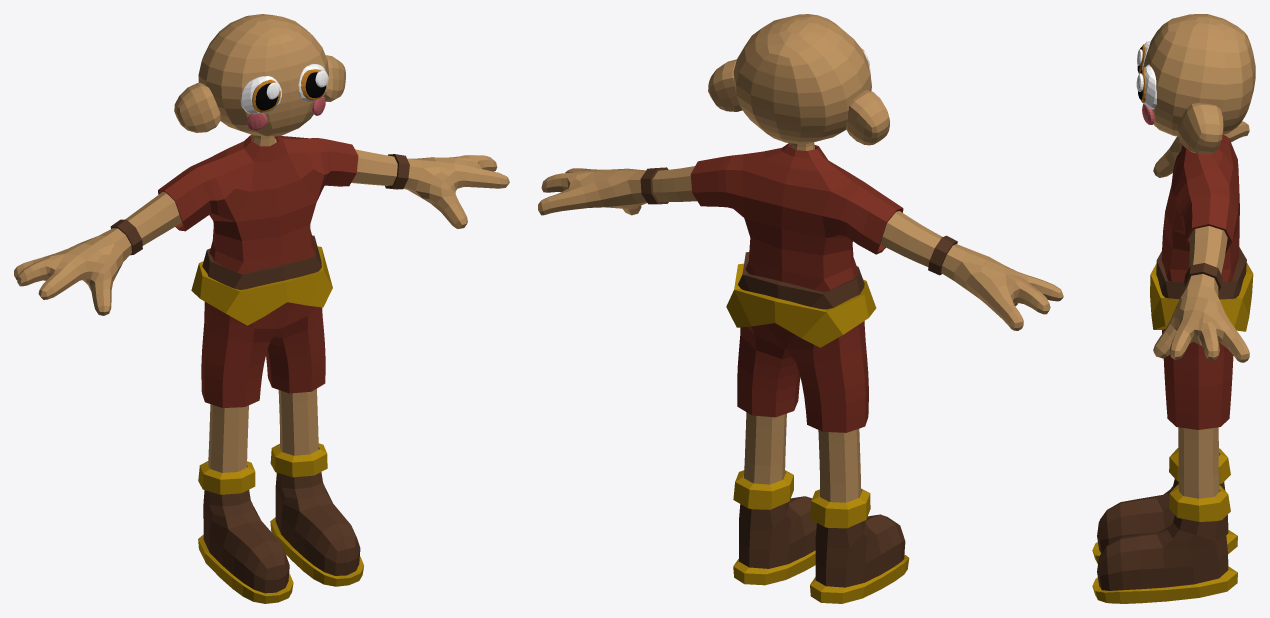
The model's file is Player With Clothes.fbx.
The picture shows the model from 3 angles, left to right: view 1: azimuth 30°, elevation 25°; view 2: azimuth 150°, elevation 25°; view 3: azimuth 270°, elevation 25°; orthographic projection. The views are drawn at different scales.
Visible parts, largest first — view 1: Cube, Cube.013, Cube.001, Cube.012, Cube.002, Cube.011, Cube.003, Cube.009, Cube.014, Cube.005, Cube.004; view 2: Cube.001, Cube, Cube.013, Cube.002, Cube.012, Cube.011, Cube.003, Cube.009, Cube.014; view 3: Cube.013, Cube.002, Cube, Cube.001, Cube.012, Cube.011, Cube.003, Cube.009, Cube.005, Cube.014.
Boxes of the visible parts, box(x1,y1,x2,y2) form: Cube: box(14, 135, 509, 472); Cube.013: box(198, 443, 363, 603); Cube.001: box(158, 134, 358, 273); Cube.012: box(201, 302, 325, 407); Cube.002: box(198, 14, 328, 136); Cube.011: box(191, 246, 332, 325); Cube.003: box(174, 55, 345, 132); Cube.009: box(202, 235, 321, 289); Cube.014: box(110, 154, 409, 255); Cube.005: box(240, 64, 327, 114); Cube.004: box(255, 72, 325, 110); Cube.001: box(690, 143, 903, 291); Cube: box(538, 142, 1063, 502); Cube.013: box(733, 470, 909, 603); Cube.002: box(733, 14, 871, 143); Cube.012: box(737, 321, 868, 432); Cube.011: box(726, 263, 876, 347); Cube.003: box(708, 59, 889, 145); Cube.009: box(738, 252, 864, 309); Cube.014: box(640, 167, 957, 275); Cube.013: box(1092, 448, 1237, 603); Cube.002: box(1143, 14, 1255, 136); Cube: box(1153, 121, 1249, 498); Cube.001: box(1161, 135, 1239, 282); Cube.012: box(1162, 329, 1233, 429); Cube.011: box(1150, 262, 1253, 331); Cube.003: box(1178, 103, 1223, 154); Cube.009: box(1156, 247, 1246, 299); Cube.005: box(1142, 41, 1156, 109); Cube.014: box(1184, 263, 1222, 291).
Size of the model in its own units: 1208 by 1303 by 345.
